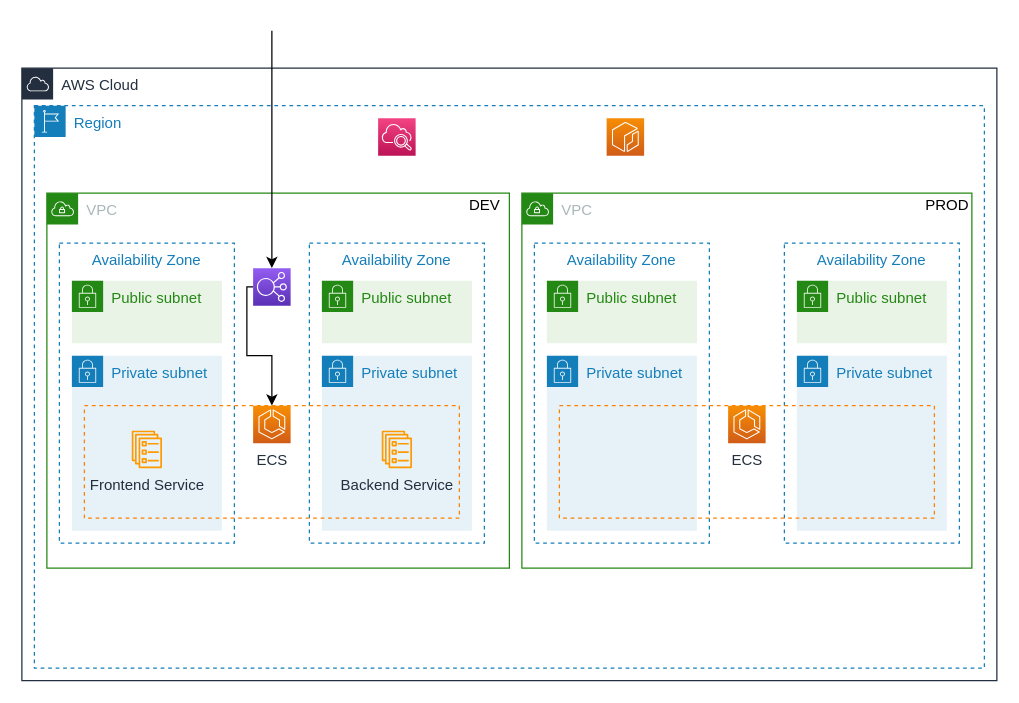
The diagram is 1019 pixels wide and 703 high, and some of its shapes have lost their labels. The shapes that lost their labels are listed below. From the top down, each one's centre as x and y in pixels, then its label:
[396,136]: CloudWatch
[624,136]: ECR
[271,286]: ELB
